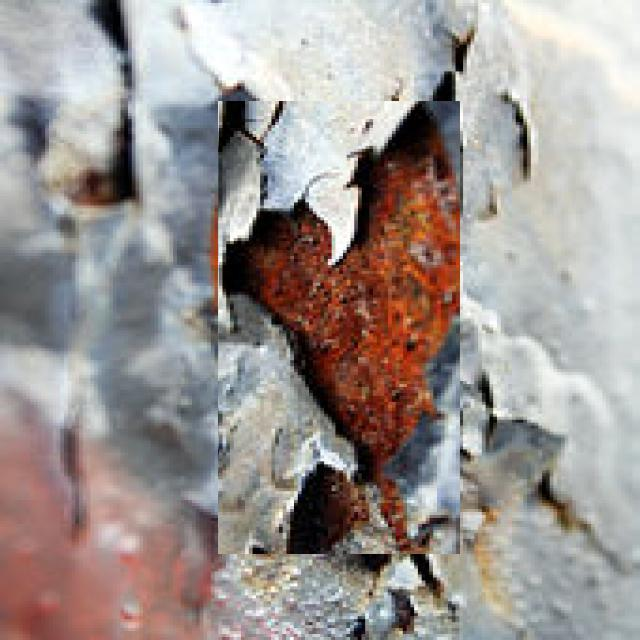Corrosion: (226, 102, 461, 536), (288, 464, 353, 554), (412, 555, 443, 598)
